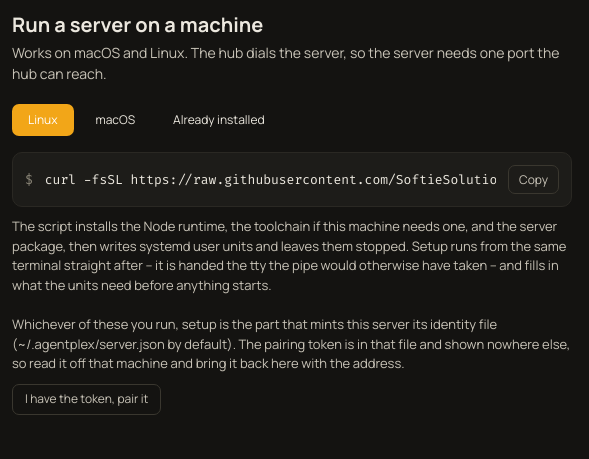
Scenario: the enroll panel › copies the command that is on screen, once, and says it did
Click the button "Copy" at (534,180), box [508, 165, 559, 194]
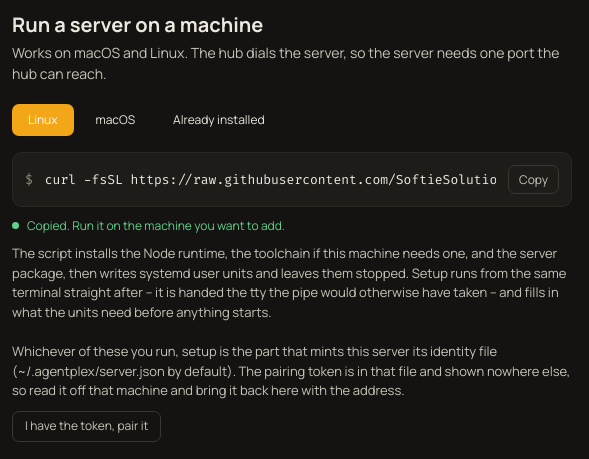
Result: the text "Copied" is shown at [27, 217, 285, 234]
